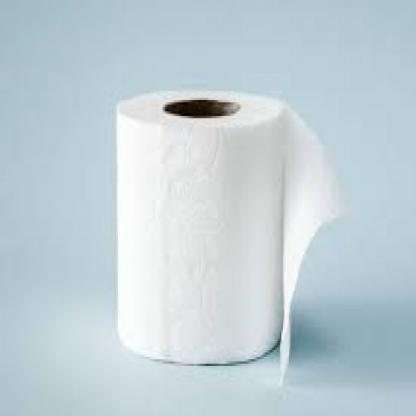tissue: (111, 88, 313, 394)
